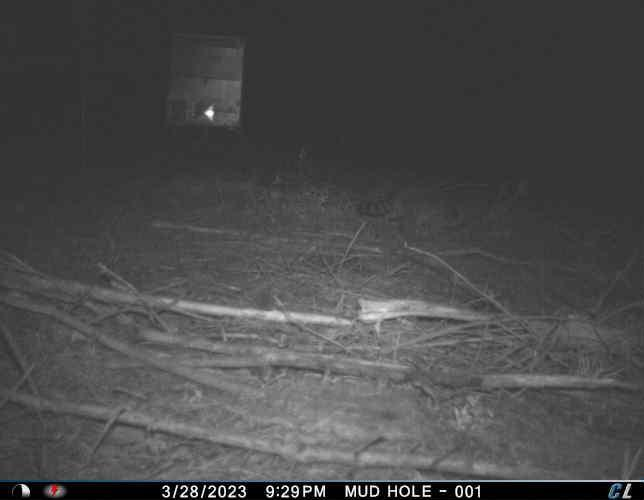Raccoon: (358, 181, 481, 241)
